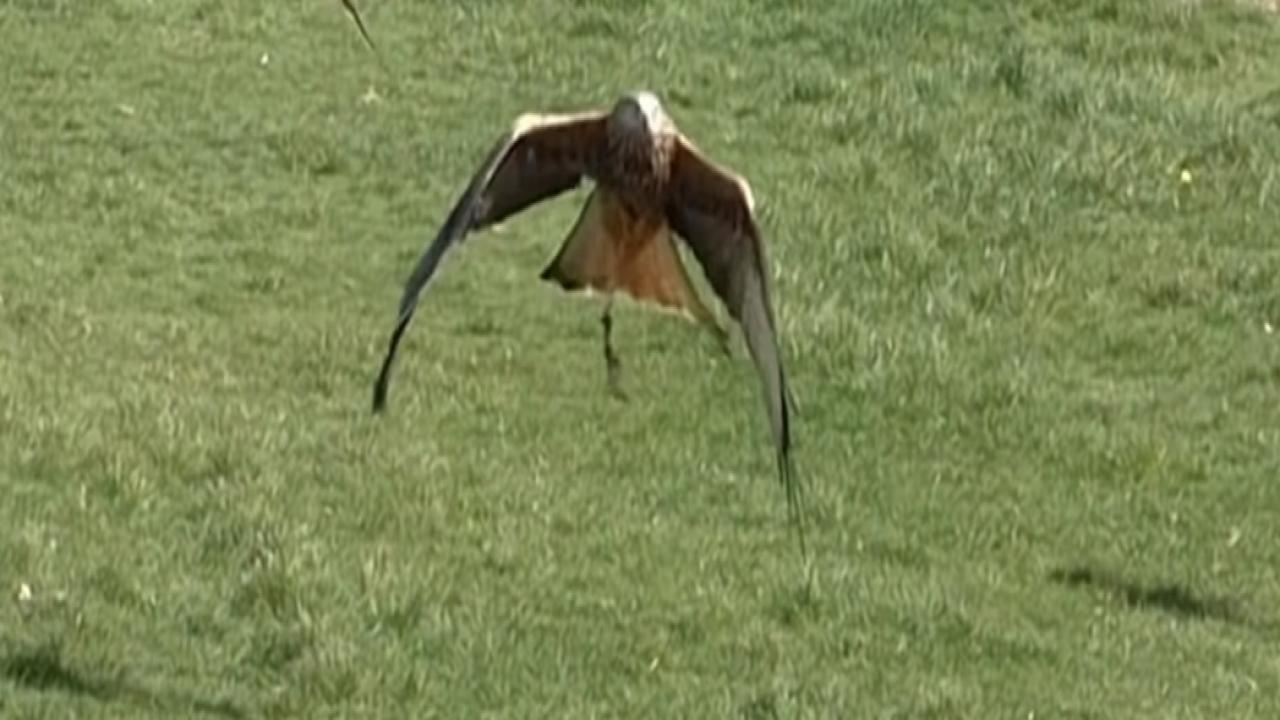Bird: (366, 81, 813, 564)
